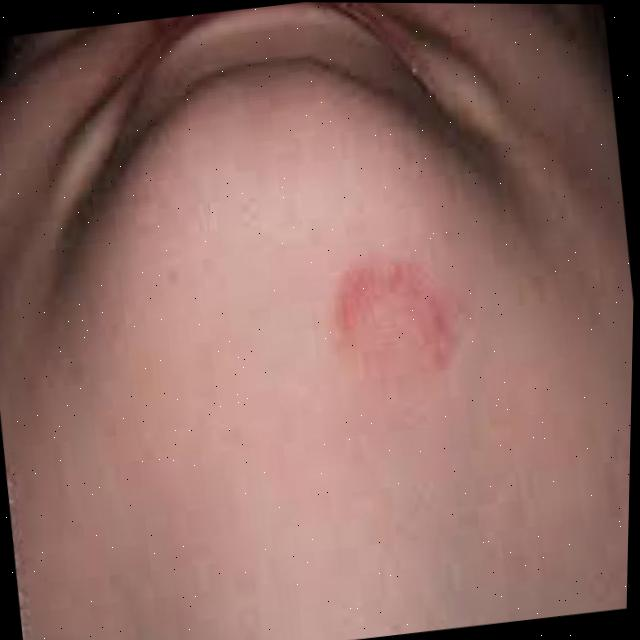Eczema: (323, 257, 453, 392)
